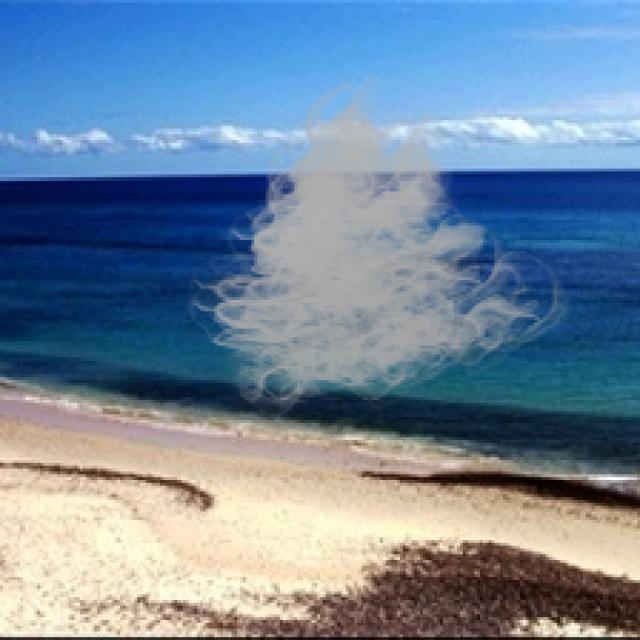smoke: (177, 74, 574, 426)
